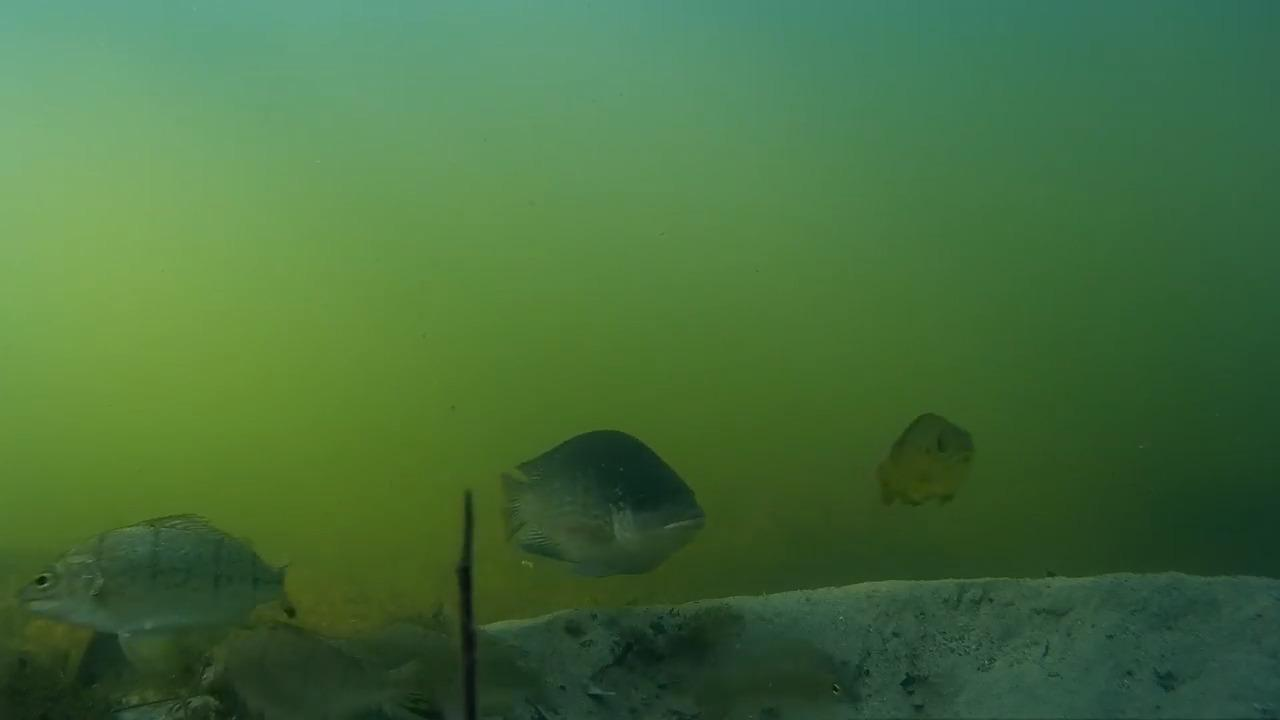Tilapia: (10, 509, 310, 648), (481, 425, 720, 590), (192, 622, 449, 718), (624, 618, 861, 716), (869, 405, 990, 519)
